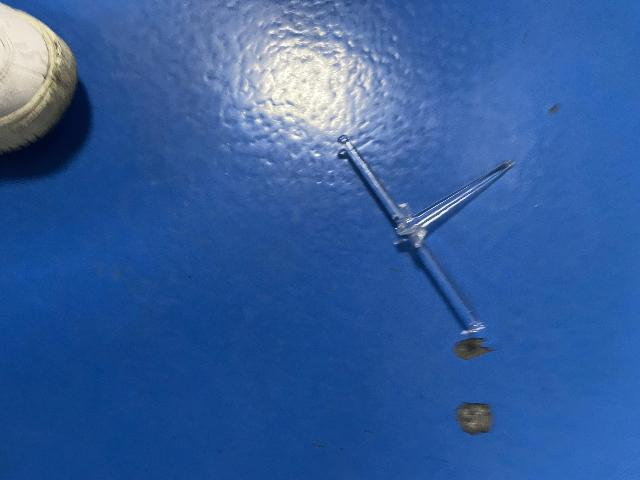Plastik: (332, 127, 521, 344)
